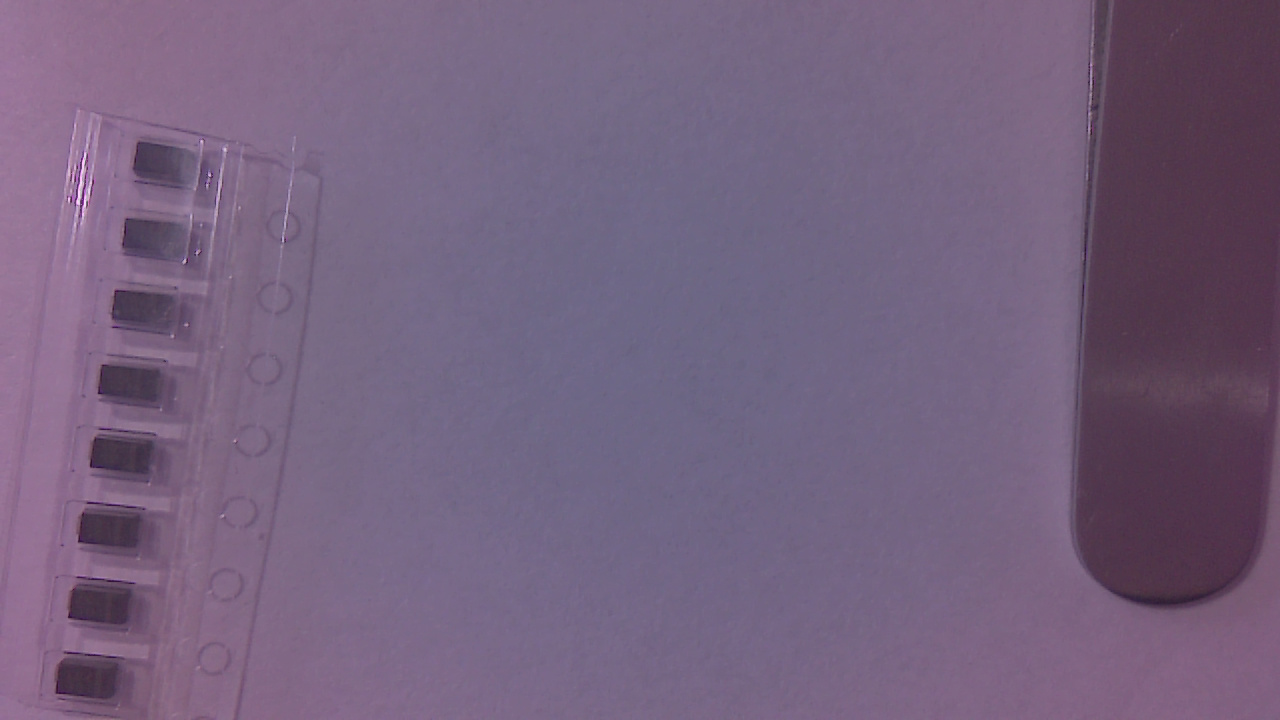Diode: (131, 145, 214, 194), (112, 290, 192, 340), (100, 365, 172, 409), (59, 662, 130, 706), (122, 222, 198, 263), (71, 586, 142, 628), (78, 512, 150, 553), (91, 440, 166, 478)
